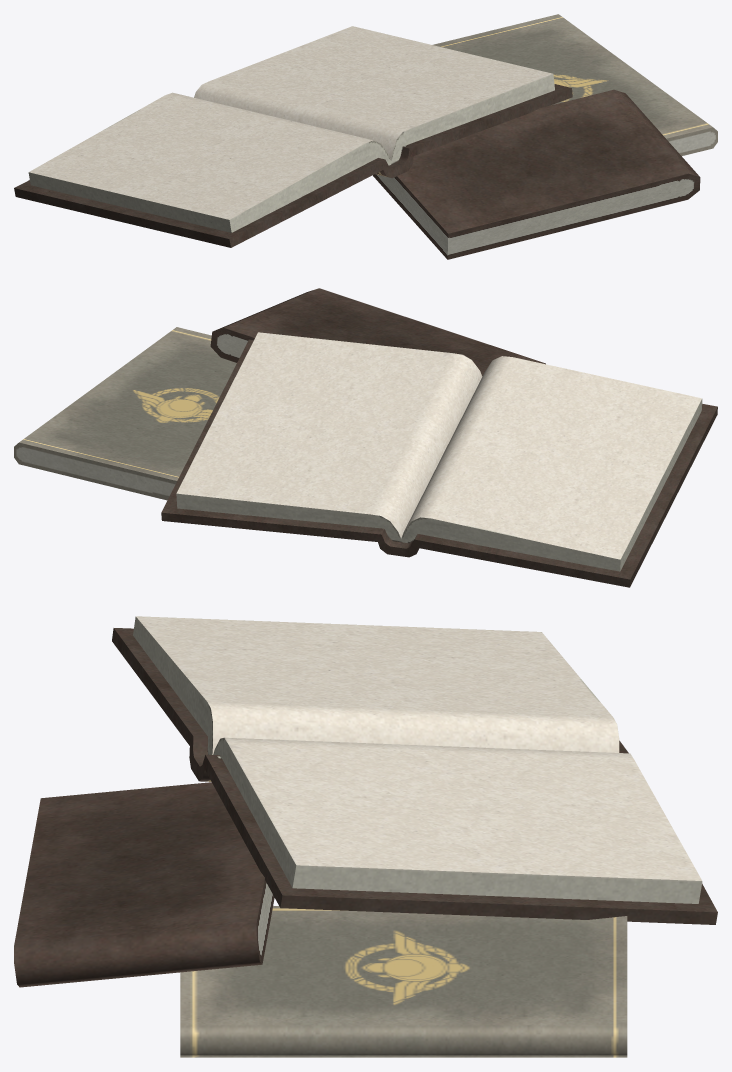
File: books.obj
3 renders of one model, top to bottom at view 1: azimuth 30°, elevation 25°; view 2: azimuth 150°, elevation 25°; view 3: azimuth 270°, elevation 25°, orthographic. The views are drawn at different scales.
Visible parts, largest first — view 1: 000_prop_books_04_inst_001; view 2: 000_prop_books_04_inst_001; view 3: 000_prop_books_04_inst_001.
Part boxes in pixels (x1,y1,x2,y2): 000_prop_books_04_inst_001: (14, 14, 717, 259); 000_prop_books_04_inst_001: (14, 288, 717, 587); 000_prop_books_04_inst_001: (14, 616, 717, 1057).
Bounding box in the file's own units: 887 × 122 × 649.
